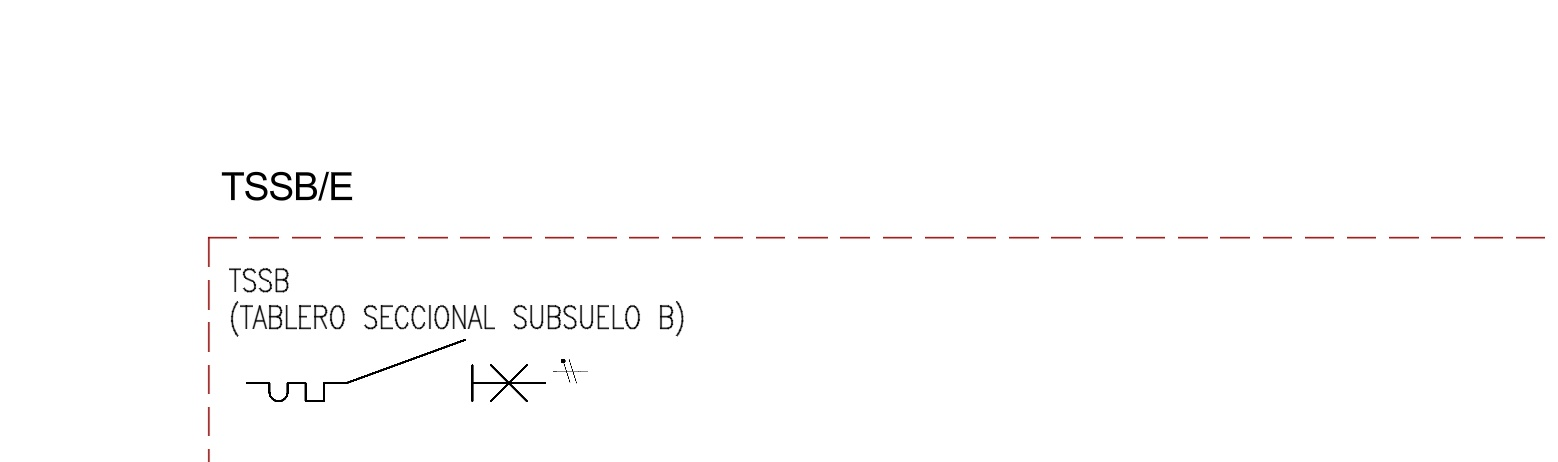interruptor_termomagnetico: (239, 332, 553, 409)
